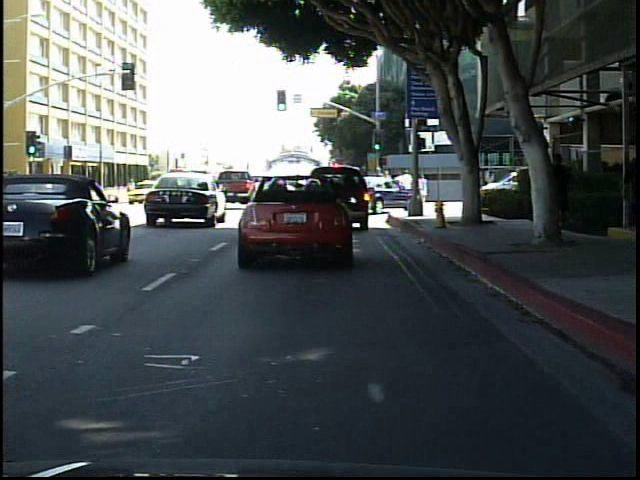person: (539, 147, 569, 238), (126, 176, 138, 194)
